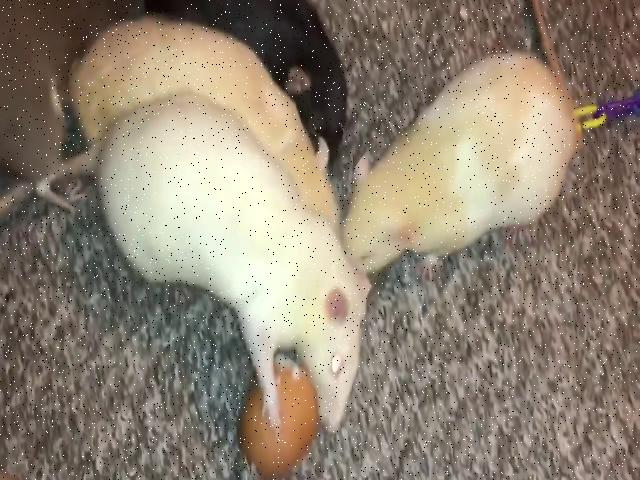Tikus: (103, 104, 357, 448), (342, 85, 586, 271), (244, 1, 360, 151)
